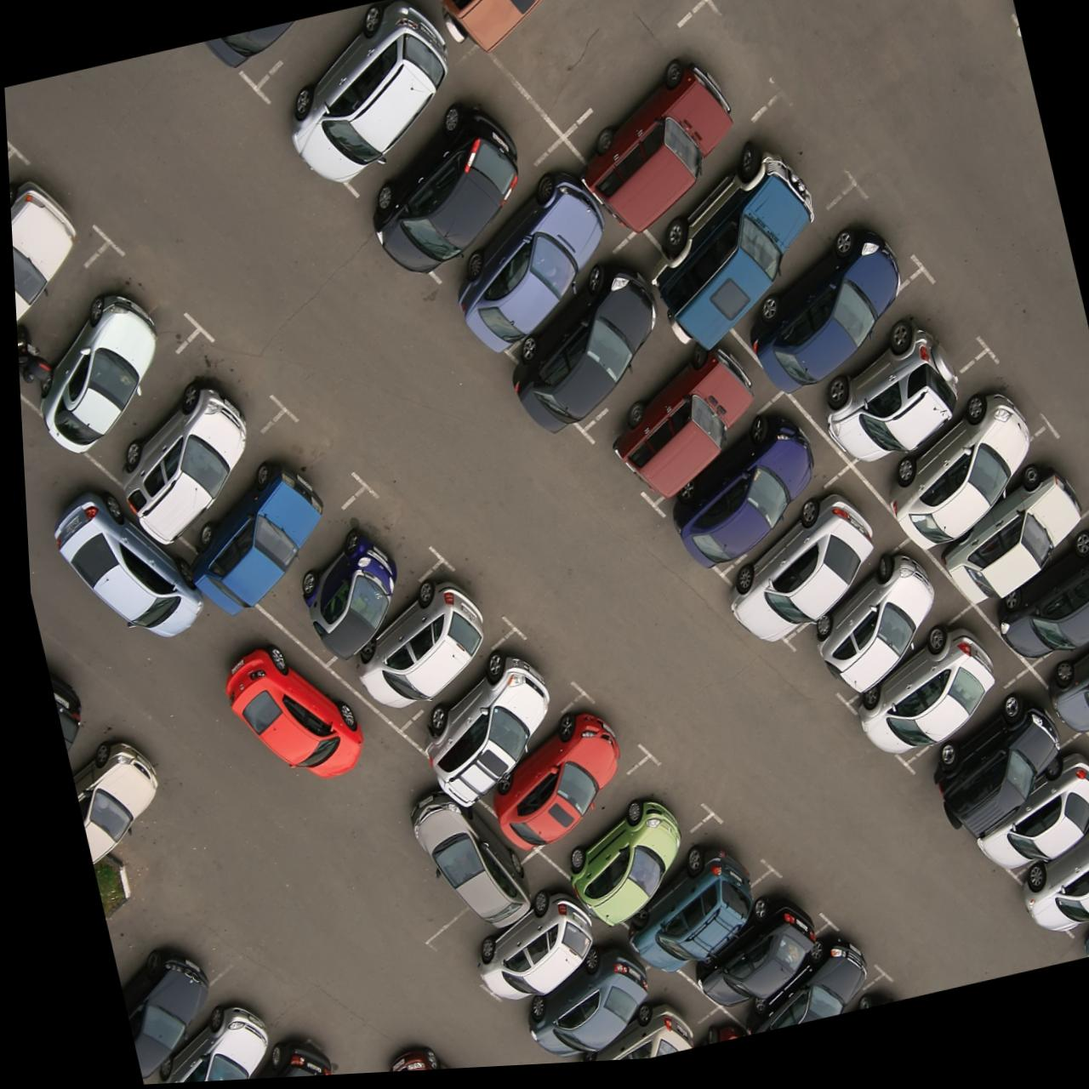cars: (567, 6, 778, 241), (344, 42, 565, 251), (93, 327, 276, 537), (14, 255, 204, 456), (171, 402, 354, 610), (648, 136, 866, 301), (591, 325, 782, 505), (264, 0, 464, 160), (496, 252, 683, 423), (442, 174, 620, 350), (662, 396, 843, 564), (810, 307, 1000, 465), (730, 219, 920, 375), (480, 690, 651, 862), (421, 626, 579, 807), (726, 484, 898, 647), (862, 402, 1055, 547), (350, 557, 512, 724), (274, 496, 430, 663), (840, 632, 1023, 764), (786, 564, 959, 702), (555, 763, 710, 913), (612, 816, 765, 966), (905, 694, 1071, 829), (434, 868, 590, 1002), (936, 481, 1089, 608), (677, 873, 820, 1004), (953, 754, 1089, 890), (9, 166, 117, 329), (509, 935, 656, 1054), (991, 519, 1089, 667), (746, 930, 881, 1033), (567, 974, 709, 1062), (1036, 602, 1089, 744), (1025, 818, 1089, 928)
empty: (505, 0, 701, 139)
